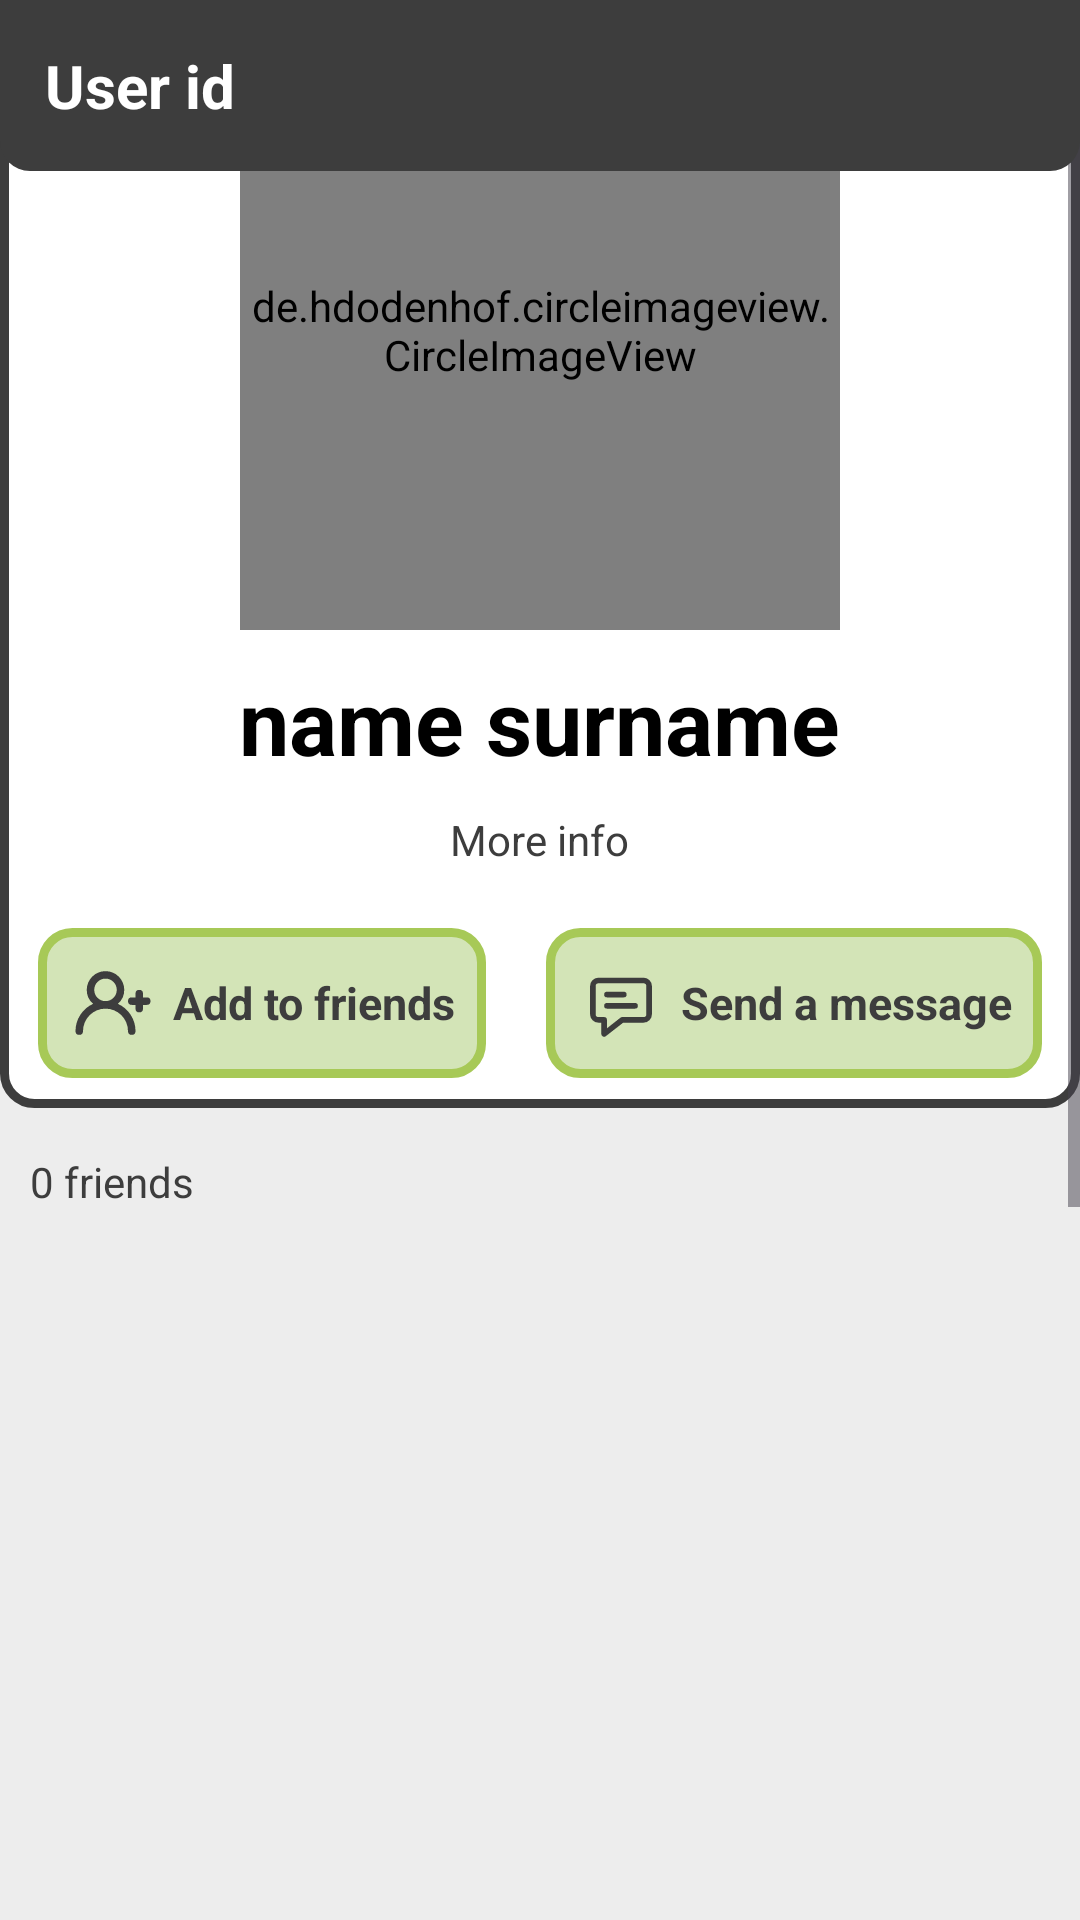

Named icons in this screenshot (1080 × 1920) and their centers, point (x, y):
add friend: point (113, 1003)
